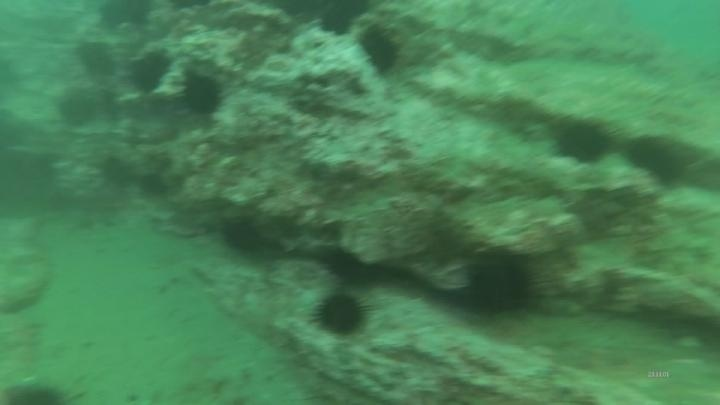echinus: (457, 247, 543, 324), (623, 134, 691, 189), (550, 115, 616, 168), (311, 289, 372, 340), (356, 24, 403, 78), (178, 69, 226, 120), (126, 48, 173, 96), (218, 214, 268, 259), (315, 1, 373, 39), (94, 1, 158, 34), (55, 86, 101, 131), (74, 38, 118, 80)
